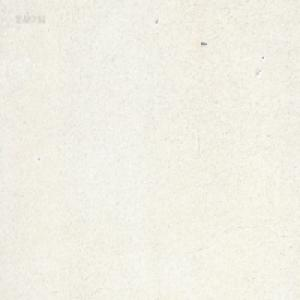Nail: (200, 41, 207, 46)
